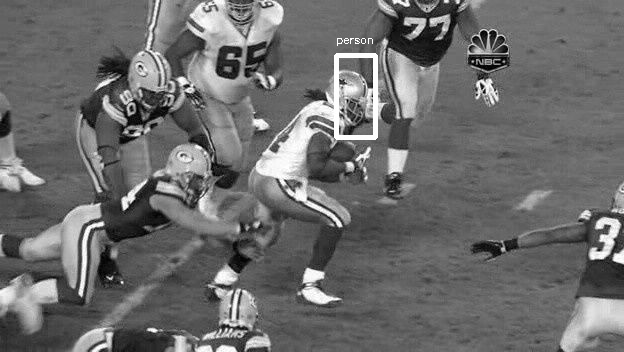person: (328, 75, 364, 121), (327, 75, 363, 121), (329, 75, 365, 121), (328, 74, 364, 120), (328, 76, 364, 122)
target_negative: (99, 72, 534, 153), (283, 106, 385, 289), (516, 225, 620, 275), (518, 336, 578, 348)
